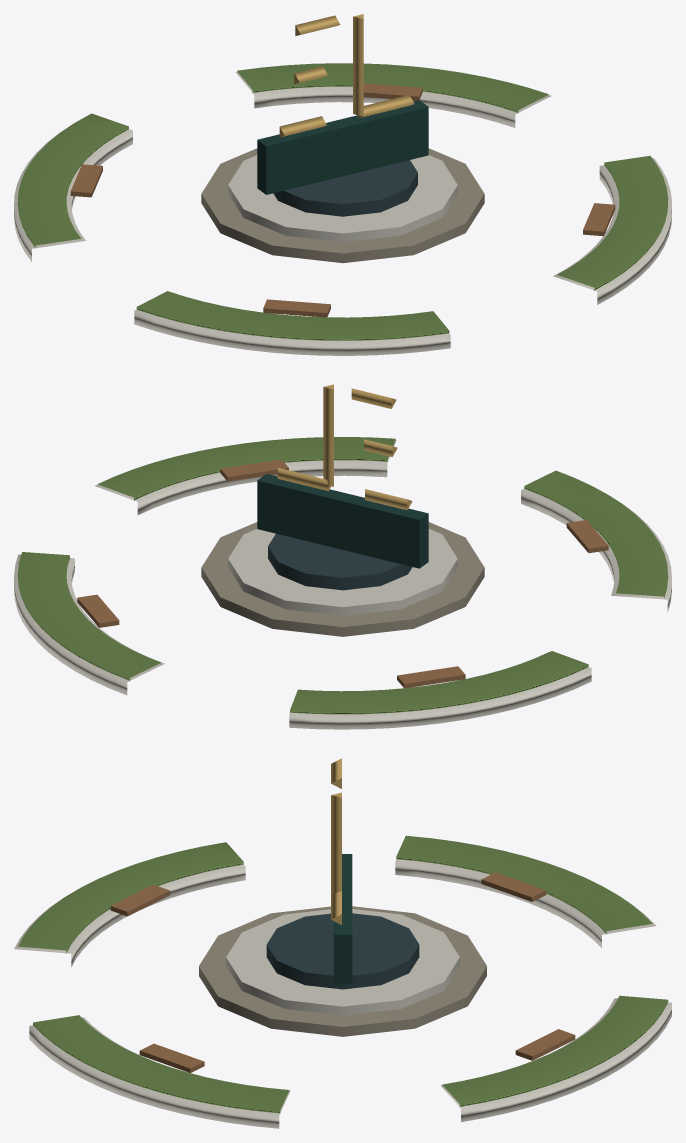
The model's file is plaza-far.glb.
3 views of the same model, one above another, from view 1: azimuth 30°, elevation 25°; view 2: azimuth 150°, elevation 25°; view 3: azimuth 270°, elevation 25° (orthographic).
Bounding box in the file's own units: 16.89 × 5.88 × 16.89.
